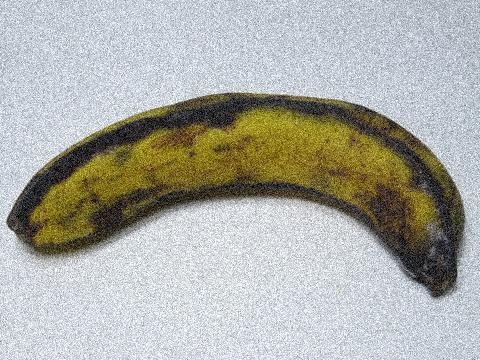overripe: (17, 76, 472, 303)
rotten: (376, 163, 470, 312)
